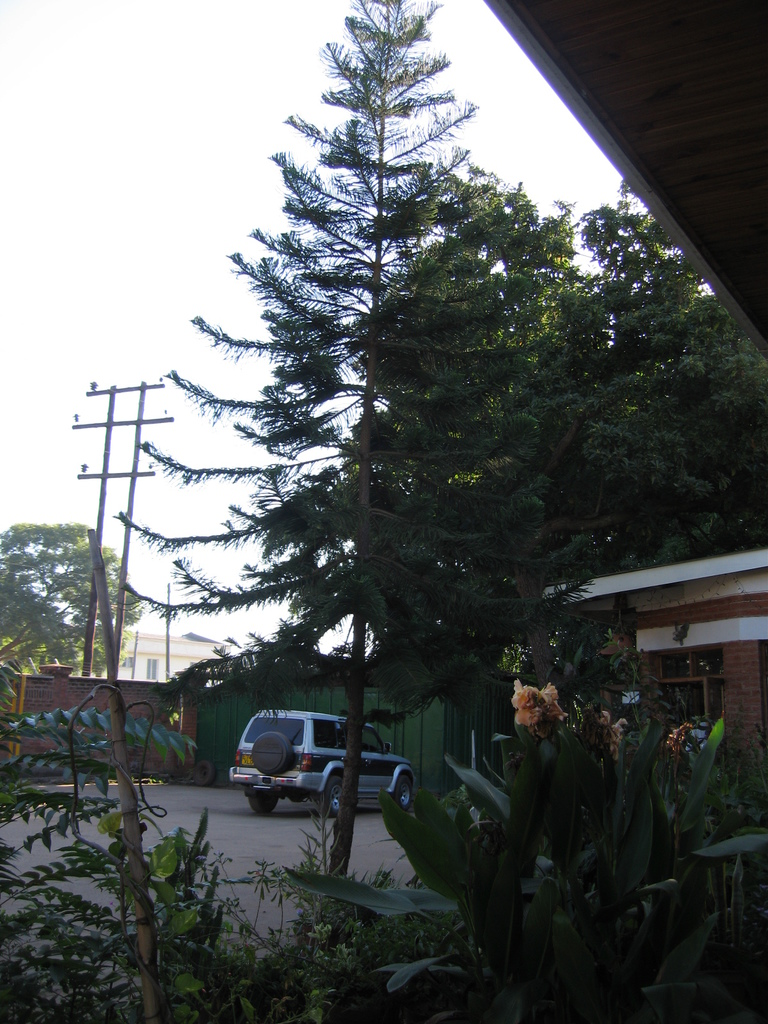Car: (221, 714, 416, 819)
